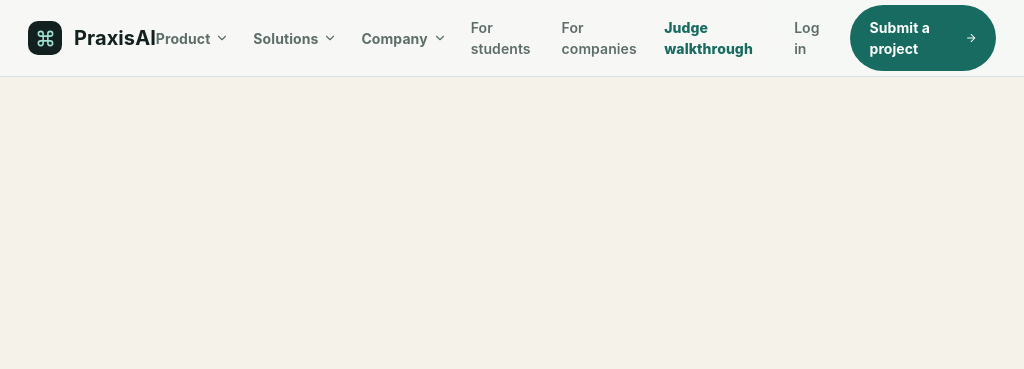
Test: premium marketing interactions › opens a structured desktop menu and restores focus on Escape
Click the button "Product" at (193, 38), box [156, 16, 229, 60]
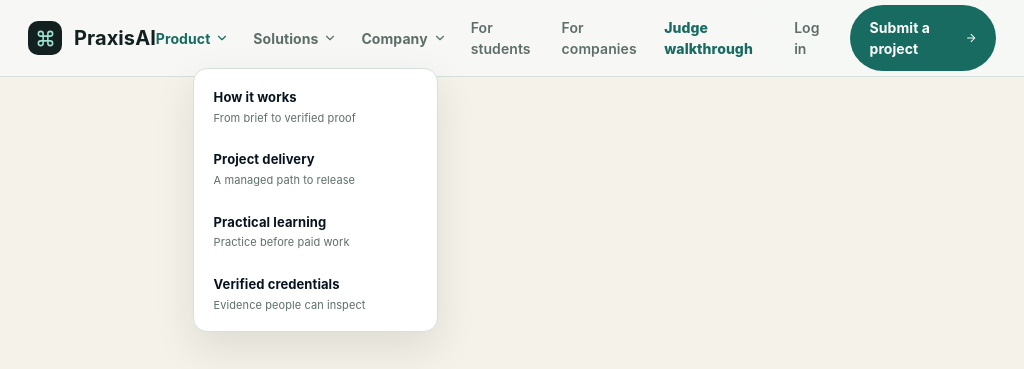
Check: the menu is shown, box [193, 68, 438, 332]
Check: the menu item "How it works From brief to verified proof" is shown, box [214, 89, 356, 124]
Press Escape
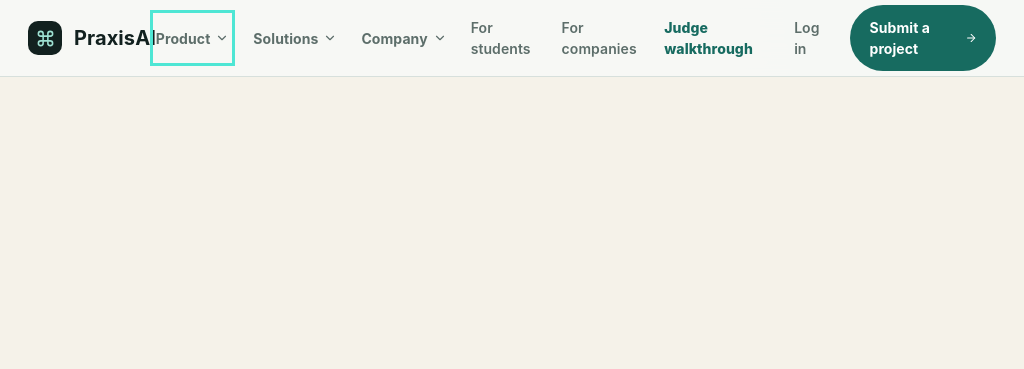
Check: the menu is gone
